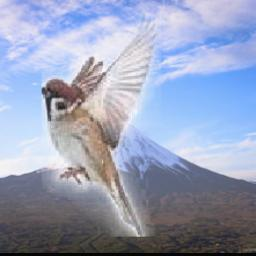Sparrow: (41, 13, 160, 237)
